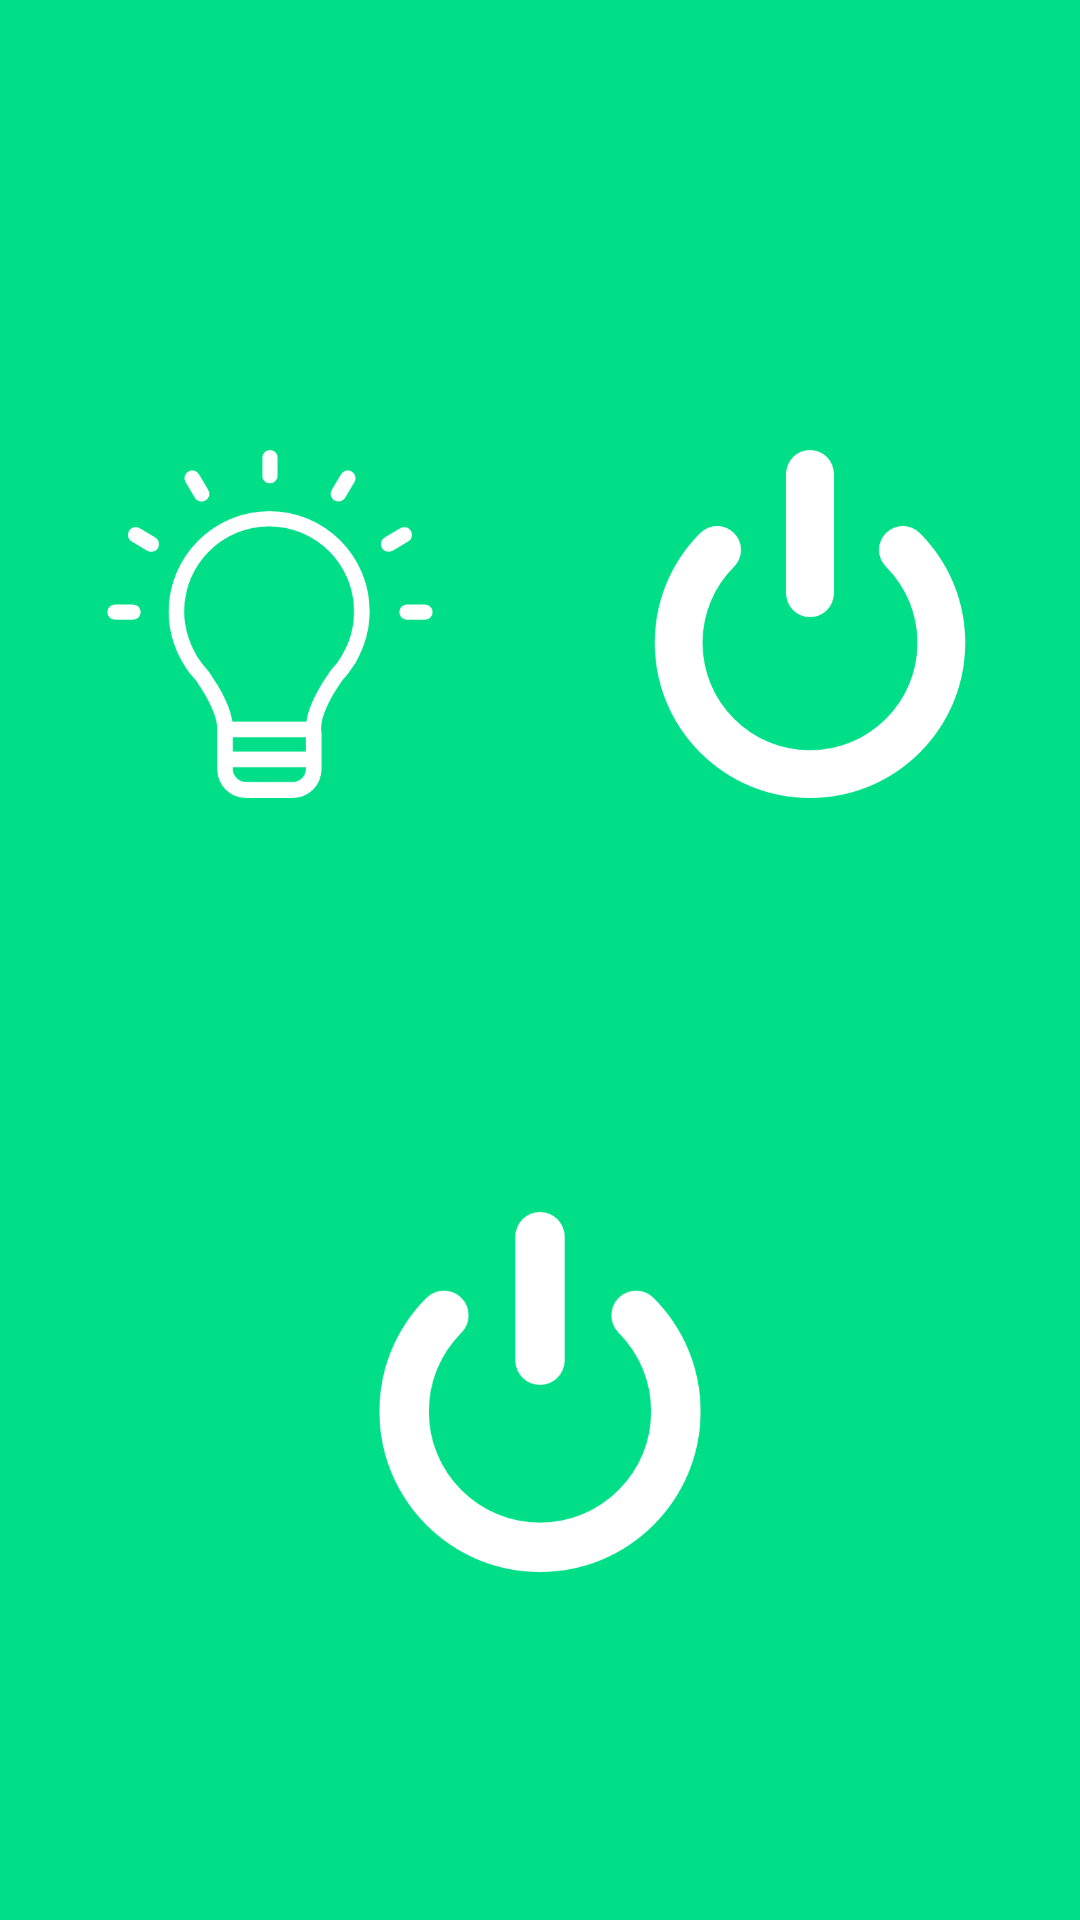

Locate icon controls on the screen. Image size 1080x1920, boxes as [x1=x1, y1=y1, x2=x2, y2=y2].
bulb on: [x1=107, y1=450, x2=433, y2=798]
power: [x1=654, y1=450, x2=966, y2=798], [x1=379, y1=1212, x2=701, y2=1572]
